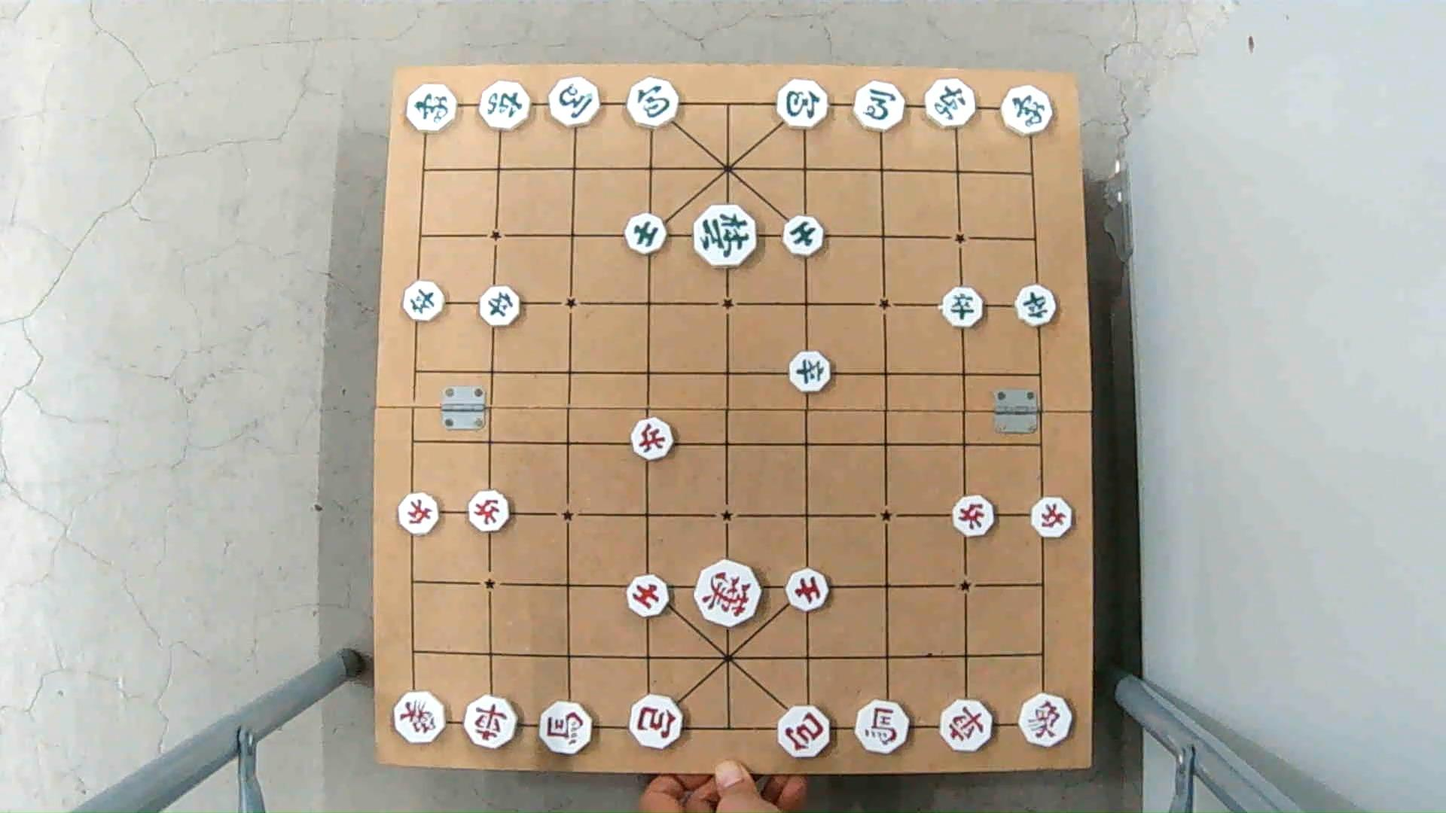cha_green: (475, 82, 533, 128), (925, 81, 980, 126)
cha_red: (461, 697, 520, 748), (938, 702, 998, 751)
jol_green: (478, 288, 523, 326), (789, 354, 834, 391), (940, 291, 986, 327), (1014, 289, 1060, 325), (401, 283, 448, 318)
jol_red: (396, 495, 444, 532), (468, 496, 517, 532), (949, 500, 996, 537), (1028, 501, 1075, 538), (629, 421, 676, 458)
ma_green: (850, 82, 908, 132), (543, 81, 600, 126)
ma_red: (537, 704, 596, 754), (853, 701, 914, 749)
po_green: (774, 81, 832, 126), (624, 81, 682, 125)
po_red: (627, 698, 685, 748), (776, 709, 835, 757)
sa_green: (779, 217, 828, 260), (624, 213, 666, 255)
sa_red: (786, 571, 831, 614), (624, 576, 673, 615)
sang_green: (404, 87, 459, 133), (997, 87, 1051, 133)
sang_red: (392, 693, 449, 745), (1017, 694, 1077, 743)
wang_green: (691, 206, 757, 261)
wang_red: (695, 564, 764, 626)
